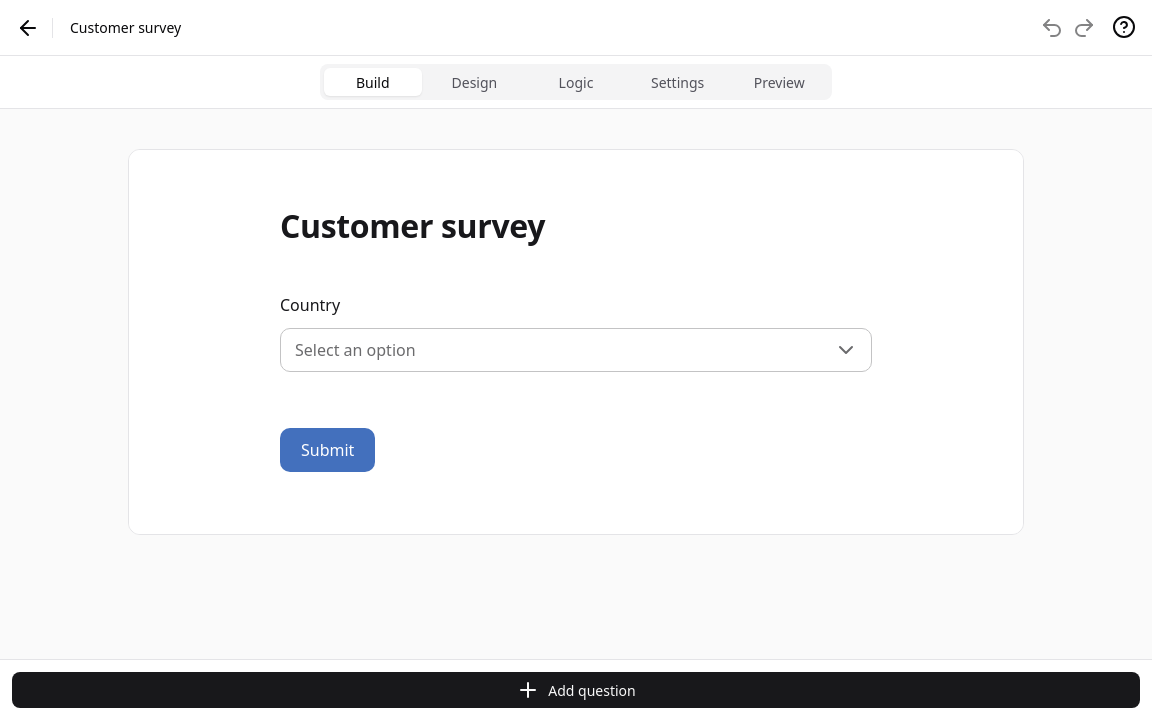
Test: EditorLayout on phones and tablets › opens a question's settings from its toolbar
The image size is (1152, 720).
Step 1. Click the button named "Question 1: Country" → (576, 333), box [264,278,888,388]
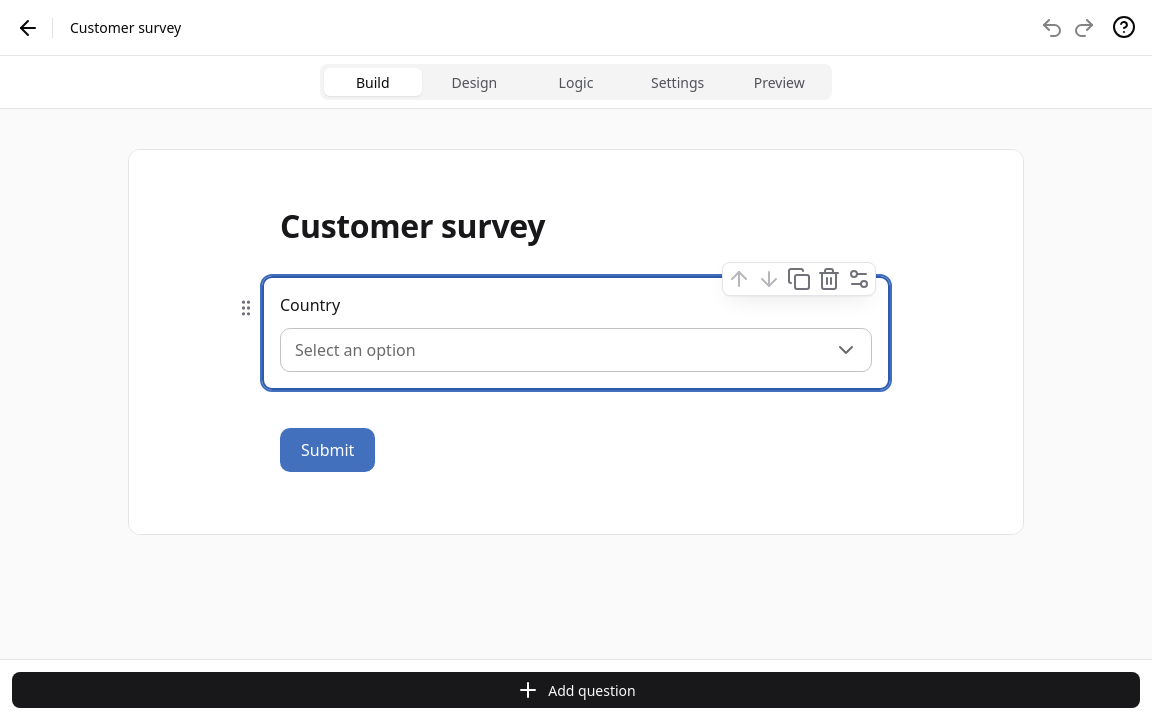
Step 2. Click the button named "Question settings" → (859, 279), box [845,265,873,293]
(page scrolled)
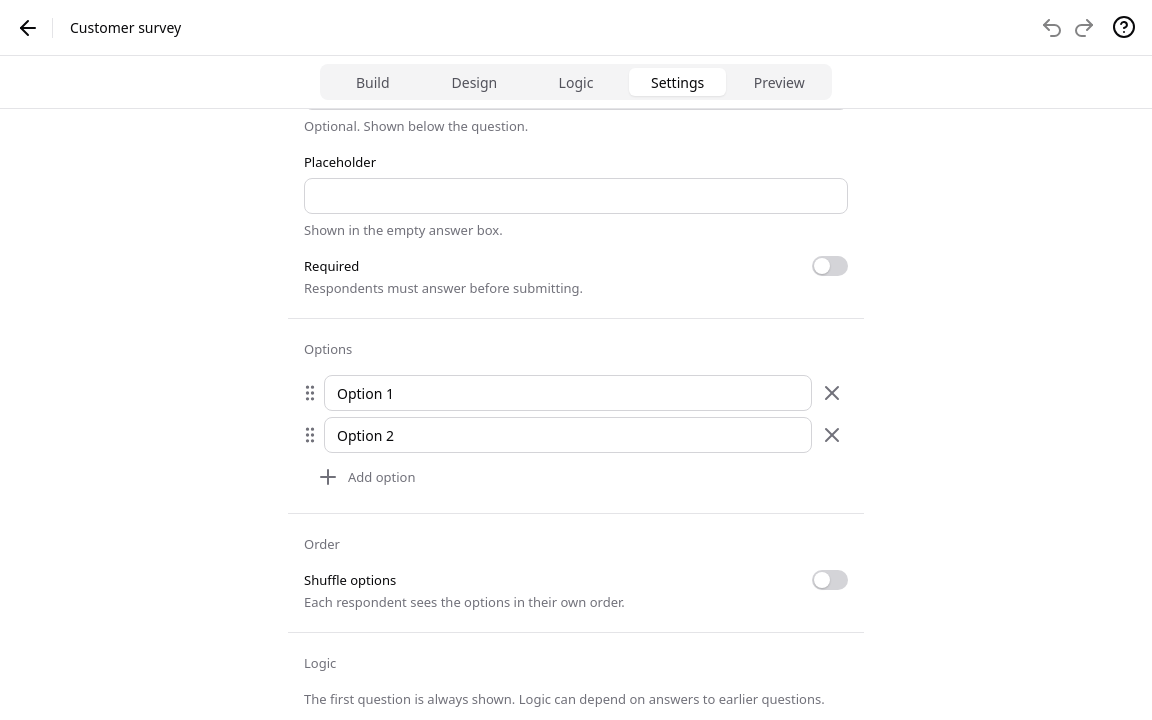
Expected: the tab "Settings" is shown, [629,68,726,96]
Expected: the list named "Options" is shown, [300,375,848,453]
